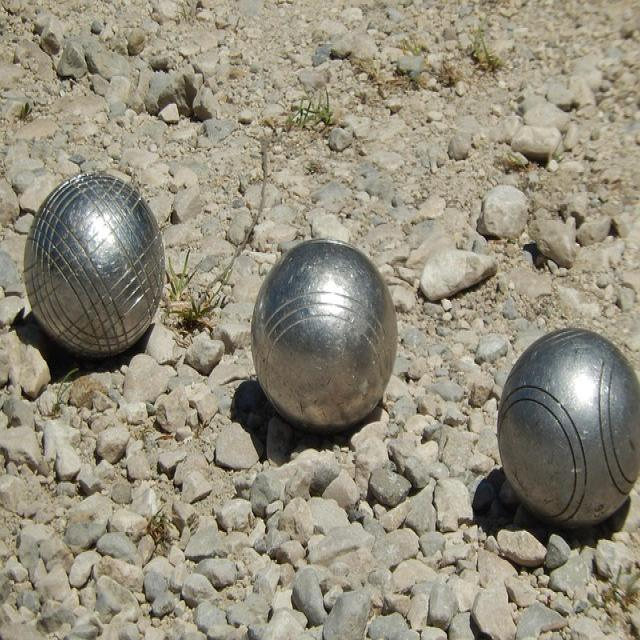petanque: (244, 227, 408, 448), (491, 322, 639, 538), (22, 164, 169, 370)
